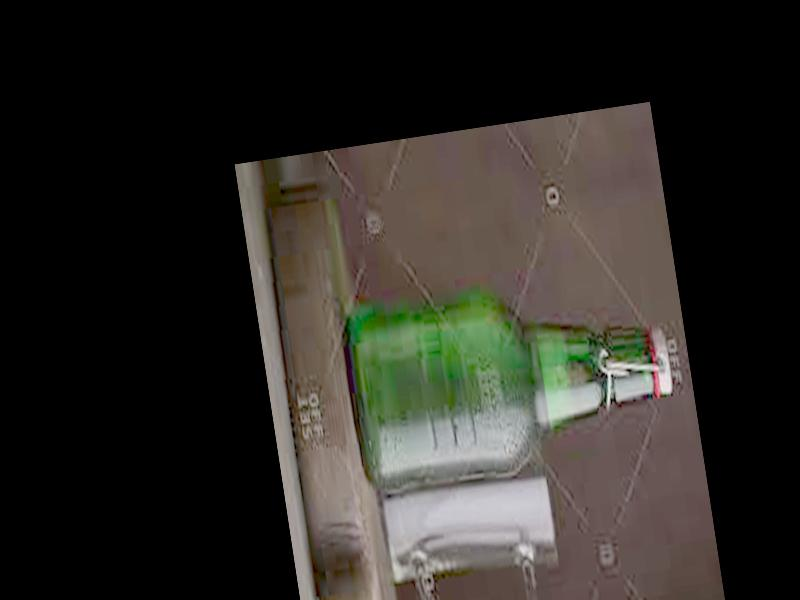Beer: (338, 268, 681, 491)
